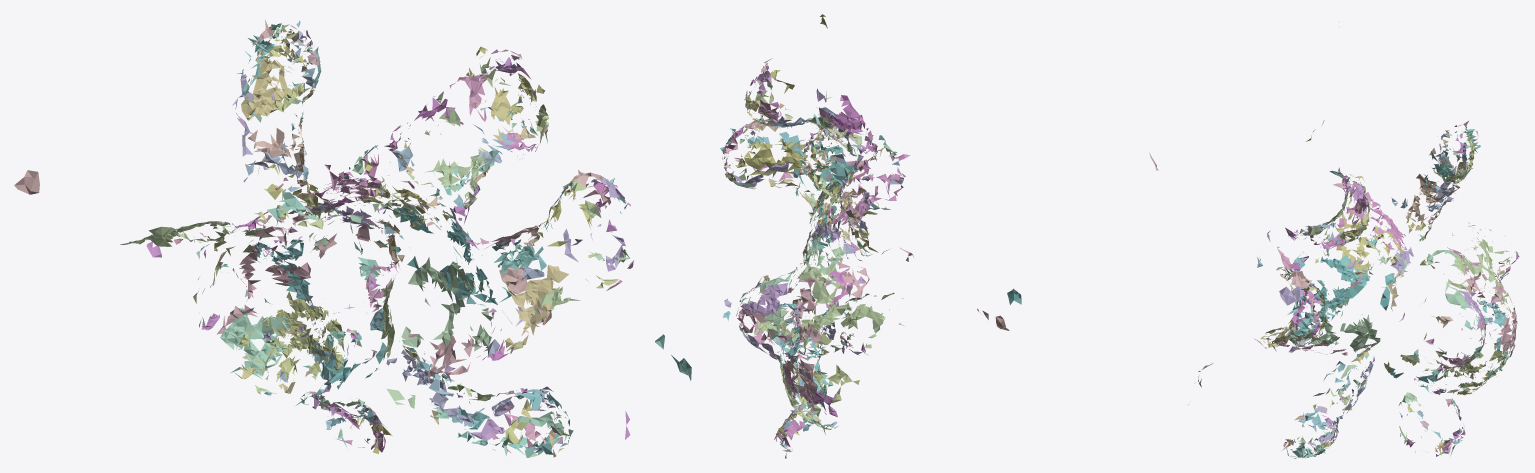
The model's file is scan105_hybrid_asset.glb.
3 renders of one model, left to right at view 1: azimuth 30°, elevation 25°; view 2: azimuth 150°, elevation 25°; view 3: azimuth 270°, elevation 25°, orthographic. The views are drawn at different scales.
Parts seen in each view (by area): view 1: certified_patches; view 2: certified_patches; view 3: certified_patches.
Part boxes in pixels (x1,y1,x2,y2): certified_patches: (14,19,691,457); certified_patches: (720,14,1158,458); certified_patches: (1188,120,1519,458).
Size of what is drawn, in the model's own units: 1.27 by 1.02 by 0.8744.
